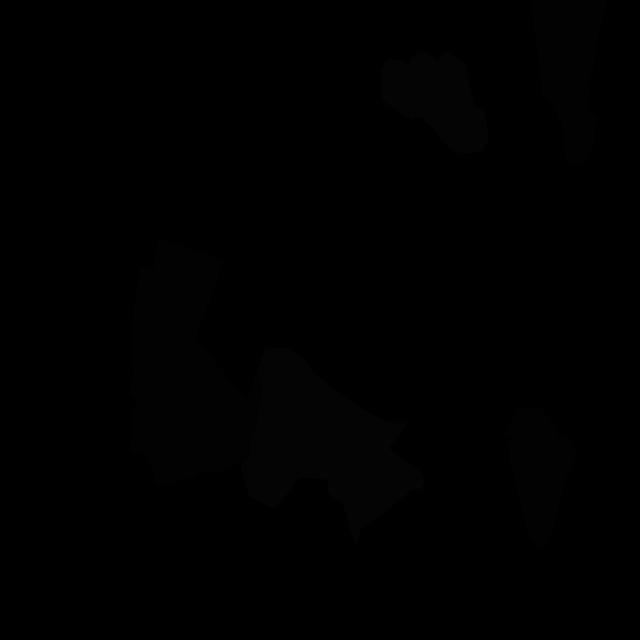cardboard: (129, 239, 262, 486), (530, 0, 608, 167), (505, 407, 576, 550)
soft_plastic: (240, 347, 424, 544), (381, 51, 488, 154)
